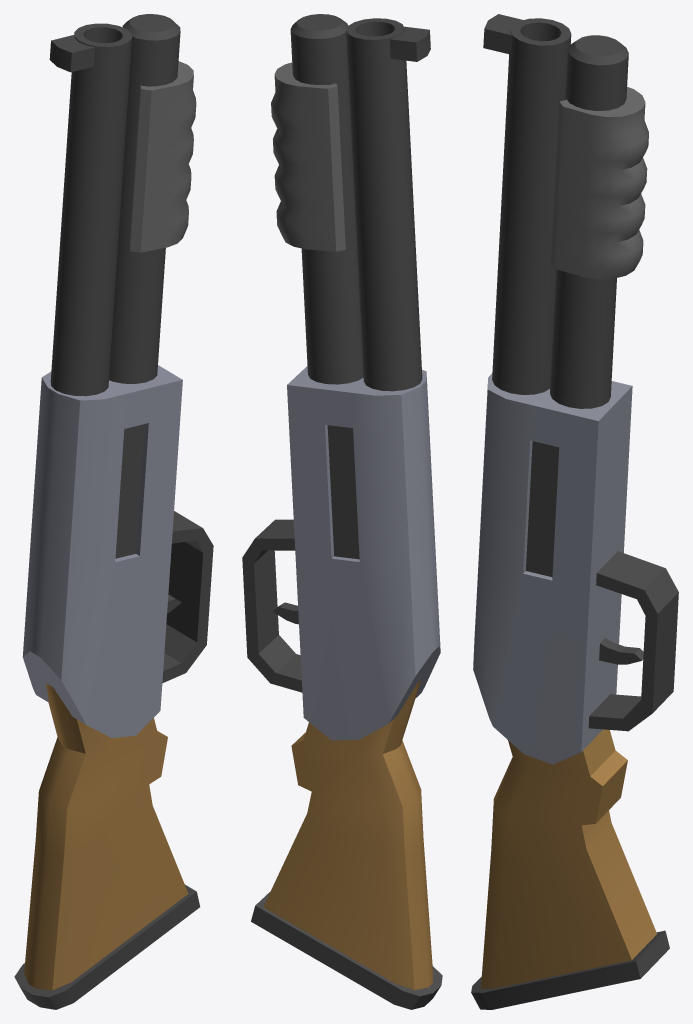
Rendered from shotgun.glb.
3 renders of one model, left to right at view 1: azimuth 30°, elevation 25°; view 2: azimuth 150°, elevation 25°; view 3: azimuth 330°, elevation 25°, orthographic. The views are drawn at different scales.
Parts seen in each view (by area): view 1: Shotgun; view 2: Shotgun; view 3: Shotgun.
Part boxes in pixels (x1=…): Shotgun: x1=14, y1=14, x2=213, y2=1009; Shotgun: x1=242, y1=14, x2=442, y2=1009; Shotgun: x1=471, y1=14, x2=678, y2=1009.
Size of the model in its own units: 0.3083 by 1.55 by 0.1565.
